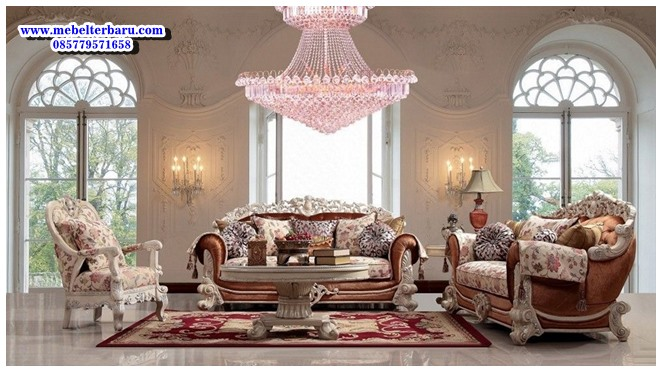Carving Chair: (187, 197, 415, 311), (454, 203, 644, 339), (39, 194, 174, 326)
